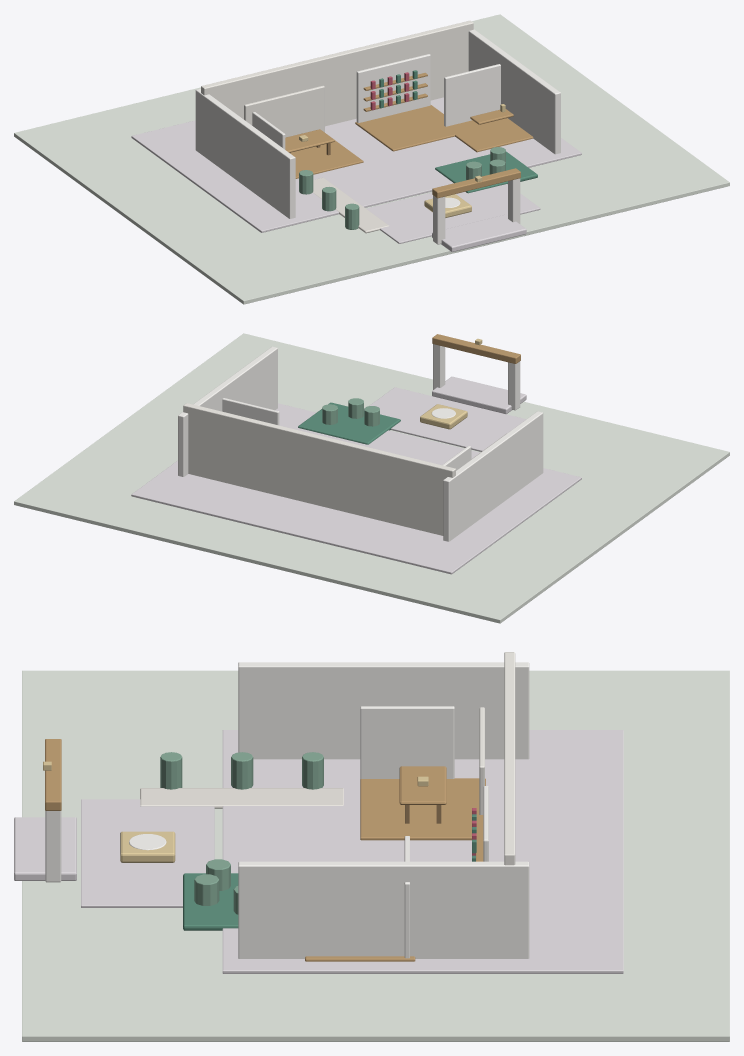
File: chapter-house.raw.glb
3 views of the same model, one above another, from view 1: azimuth 30°, elevation 25°; view 2: azimuth 150°, elevation 25°; view 3: azimuth 270°, elevation 25° (orthographic). The views are drawn at different scales.
Parts seen in each view (by area): view 1: Ground, Terrace, House_Rear, House_LeftWing, House_RightWing, Courtyard_Paving, Library_BackWall, Library_Floor, Membership_Wall, Table_BackWall, Threshold_Steps, Membership_Floor (+11 smaller); view 2: Ground, House_Rear, Terrace, House_LeftWing, Courtyard_Paving, House_RightWing, Garden_Bed, Threshold_Steps, Threshold_Lintel, Garden, Membership_Wall, Courtyard_Basin (+2 smaller); view 3: Ground, Terrace, House_RightWing, House_LeftWing, Courtyard_Paving, Table_LeftWall, Table_Floor, Path_Walk, Threshold_Steps, House_Rear, Path, Garden_Bed (+6 smaller).
Boxes of the visible parts, x1,y1,x2,y2 form: Ground: (14, 14, 729, 304); Terrace: (131, 97, 581, 232); House_Rear: (201, 20, 473, 126); House_LeftWing: (195, 88, 295, 218); House_RightWing: (468, 29, 560, 154); Courtyard_Paving: (366, 184, 540, 243); Library_BackWall: (356, 54, 430, 122); Library_Floor: (355, 105, 466, 151); Membership_Wall: (444, 64, 500, 126); Table_BackWall: (244, 85, 324, 137); Threshold_Steps: (432, 214, 526, 252); Membership_Floor: (455, 118, 533, 152); Ground: (14, 333, 729, 623); House_Rear: (183, 403, 455, 535); Terrace: (131, 403, 581, 574); House_LeftWing: (443, 411, 543, 541); Courtyard_Paving: (364, 387, 525, 451); House_RightWing: (178, 346, 277, 476); Garden_Bed: (298, 402, 400, 444); Threshold_Steps: (432, 376, 526, 413); Threshold_Lintel: (432, 334, 520, 363); Garden: (322, 398, 379, 426); Membership_Wall: (222, 398, 279, 425); Courtyard_Basin: (420, 404, 467, 429); Ground: (22, 670, 729, 1041); Terrace: (222, 730, 623, 973); House_RightWing: (238, 861, 529, 958); House_LeftWing: (238, 662, 529, 759); Courtyard_Paving: (81, 799, 214, 907); Table_LeftWall: (360, 706, 454, 778); Table_Floor: (360, 778, 485, 840); Path_Walk: (140, 788, 343, 808); Threshold_Steps: (14, 817, 76, 880); House_Rear: (504, 652, 515, 865); Path: (160, 752, 323, 789); Garden_Bed: (183, 873, 238, 930).
Size of the model in its own units: 22 by 3.16 by 18.2.
